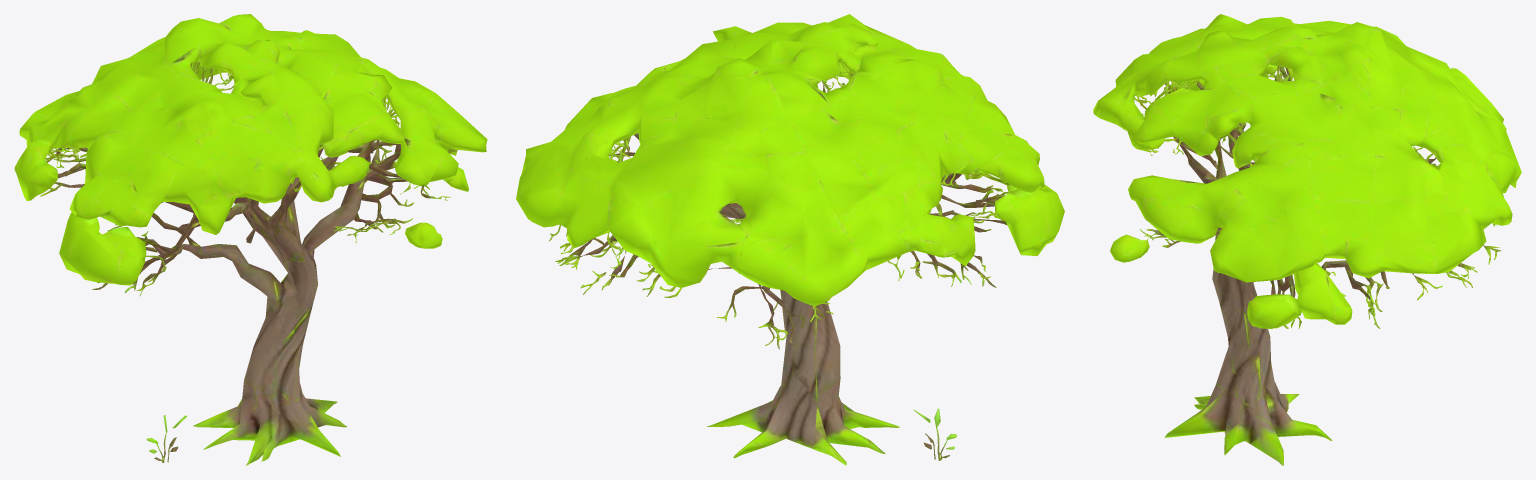
Rendered from acacia_hero.glb.
3 views of the same model, side by side, from view 1: azimuth 30°, elevation 25°; view 2: azimuth 150°, elevation 25°; view 3: azimuth 270°, elevation 25° (orthographic). The views are drawn at different scales.
Bounding box in the file's own units: 1.89 × 1.6 × 1.61.
1 material, 1 textured.
